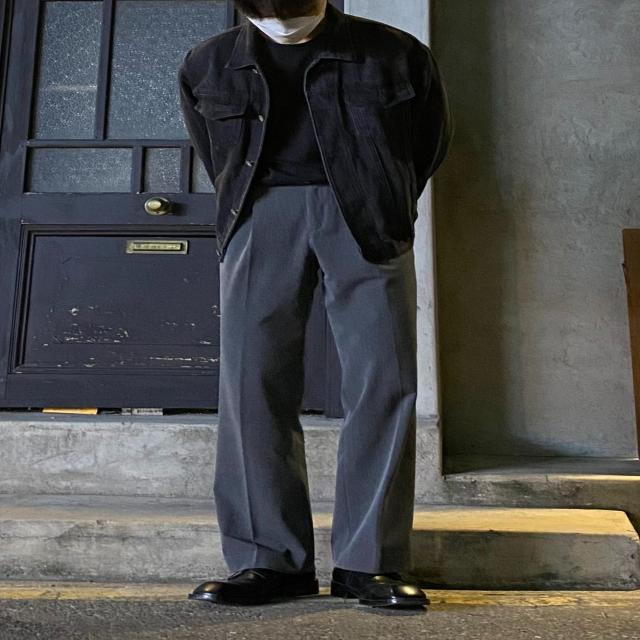jacket: (178, 7, 448, 263)
slacks: (212, 179, 418, 588)
